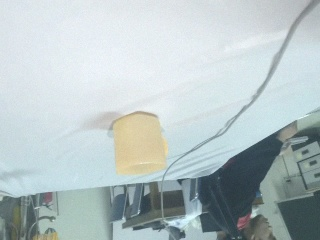cup: (111, 111, 169, 177)
